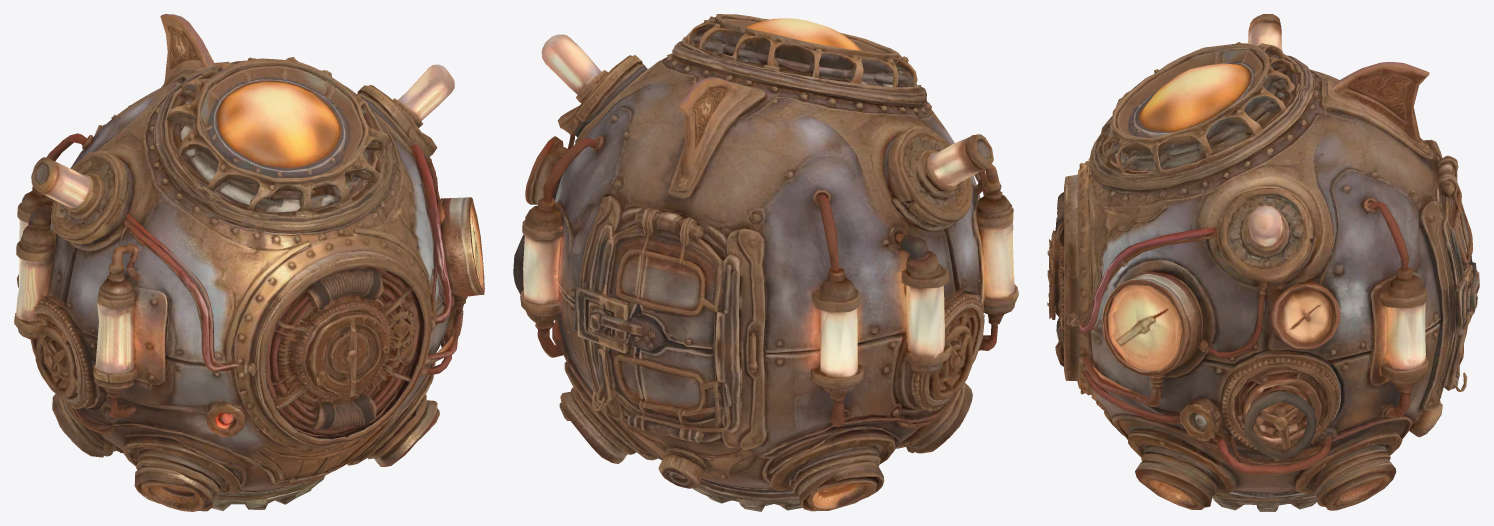
File: emitter-orb.draco.glb
3 renders of one model, left to right at view 1: azimuth 30°, elevation 25°; view 2: azimuth 150°, elevation 25°; view 3: azimuth 270°, elevation 25°, orthographic. The views are drawn at different scales.
Size of the model in its own units: 1.9 by 1.83 by 1.67.
1 material, 1 textured.
